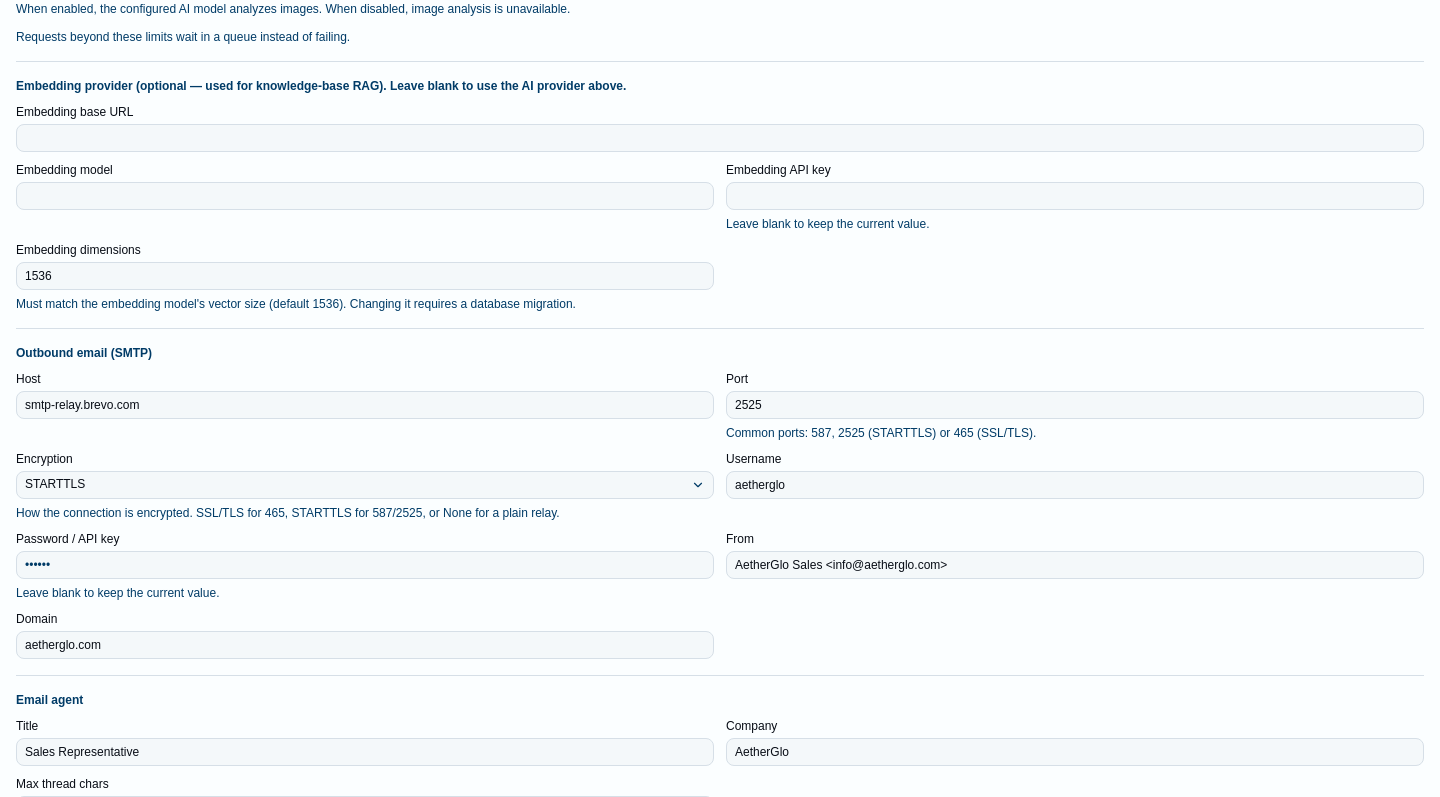
Scenario: AppSettingsPage SMTP form › surfaces an out-of-range port as an inline error
The image size is (1440, 797).
(page scrolled)
Replace the text in the number field labelled "Port" with "70000": [1075, 405] box [726,391,1424,419]
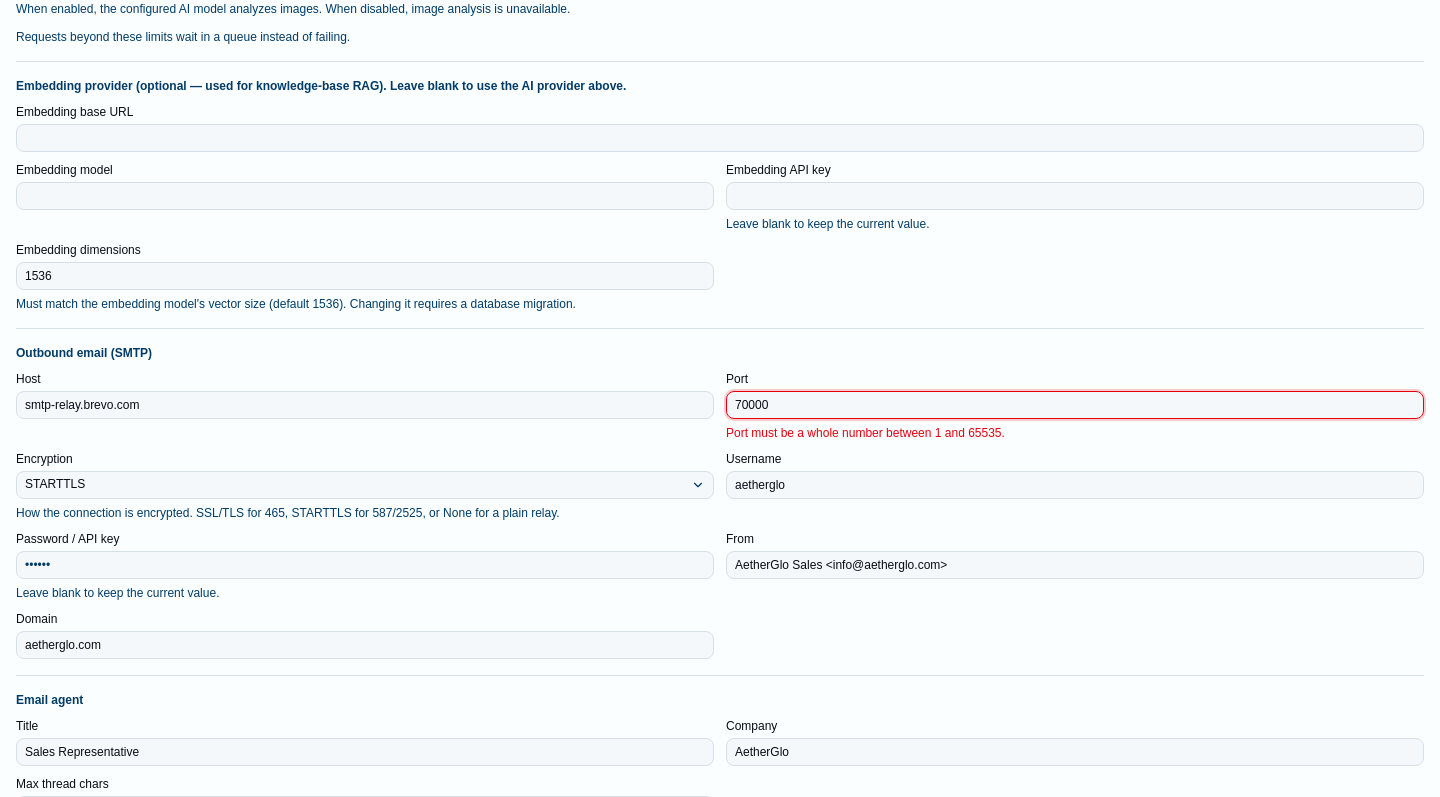
Check: the message shows "between 1 and 65535", box [726,426,1005,440]
